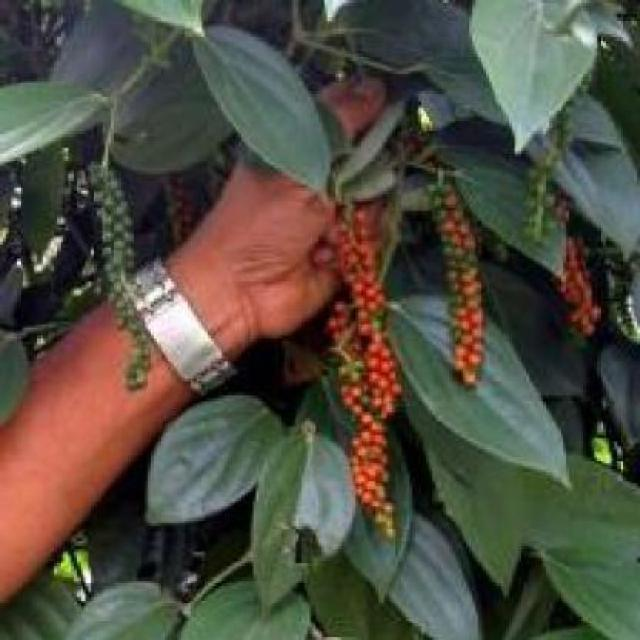RIPE: (422, 174, 502, 386), (353, 202, 393, 416), (546, 239, 600, 342)
UNRIPE: (74, 154, 168, 401), (518, 28, 617, 231)
